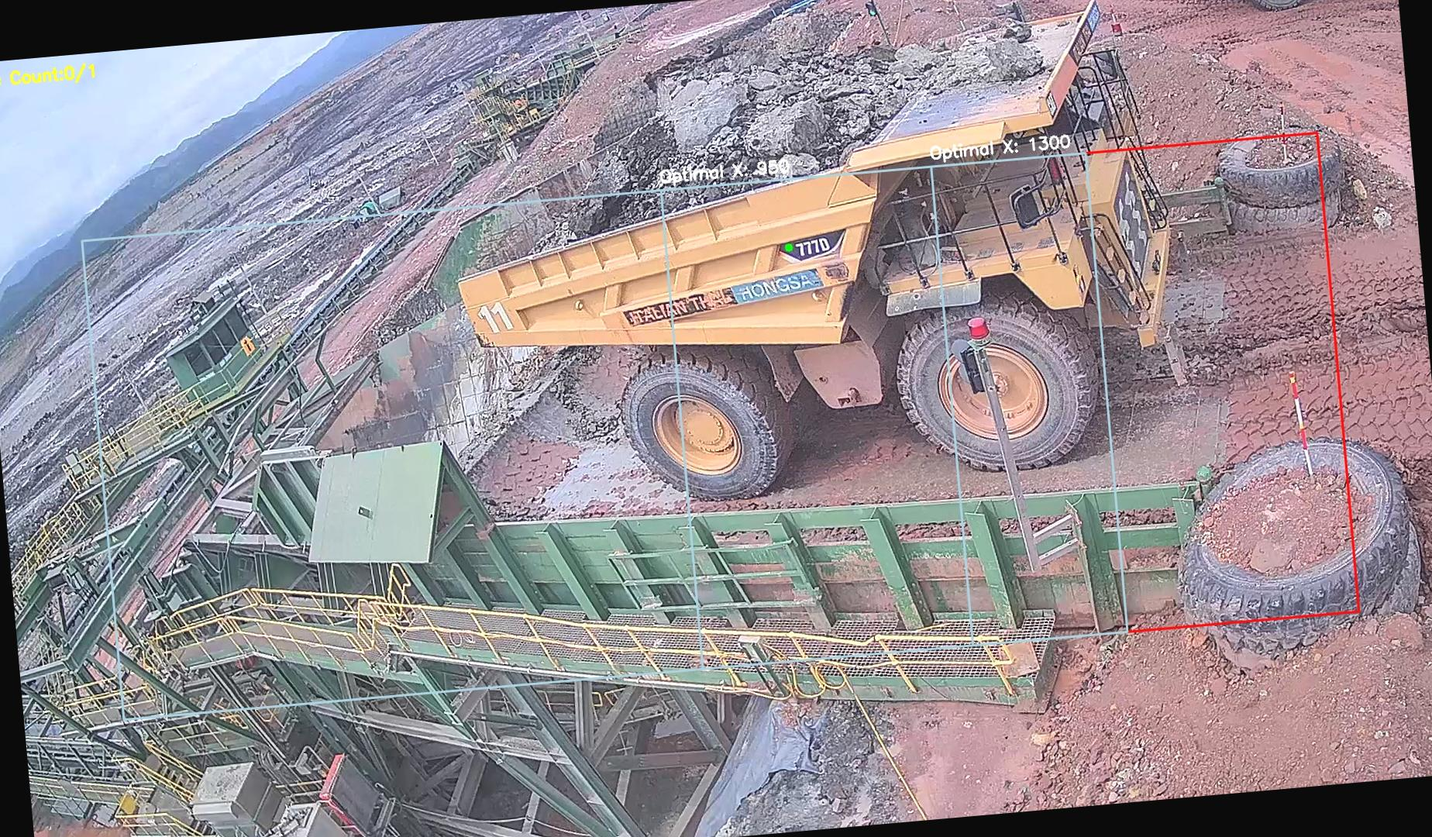company: (612, 260, 833, 332)
full_load: (553, 42, 925, 241)
mining_truck: (427, 0, 1199, 528)
tail_number: (465, 293, 523, 344)
truck_size: (783, 226, 843, 262)
